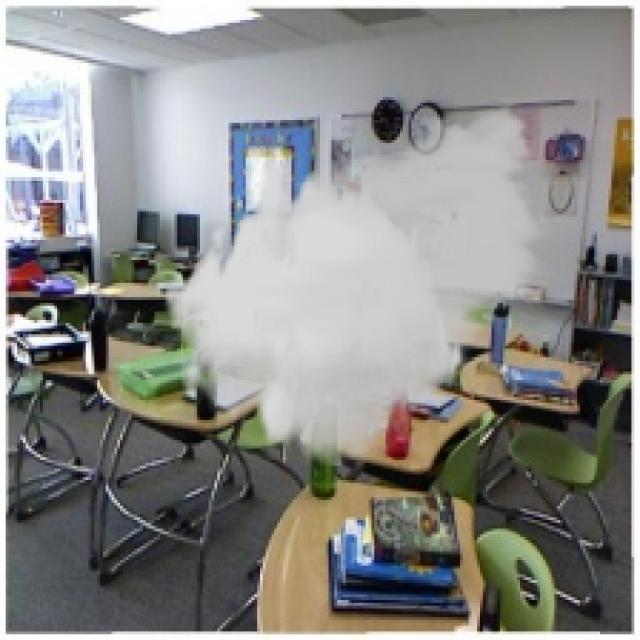smoke: (163, 91, 554, 466)
